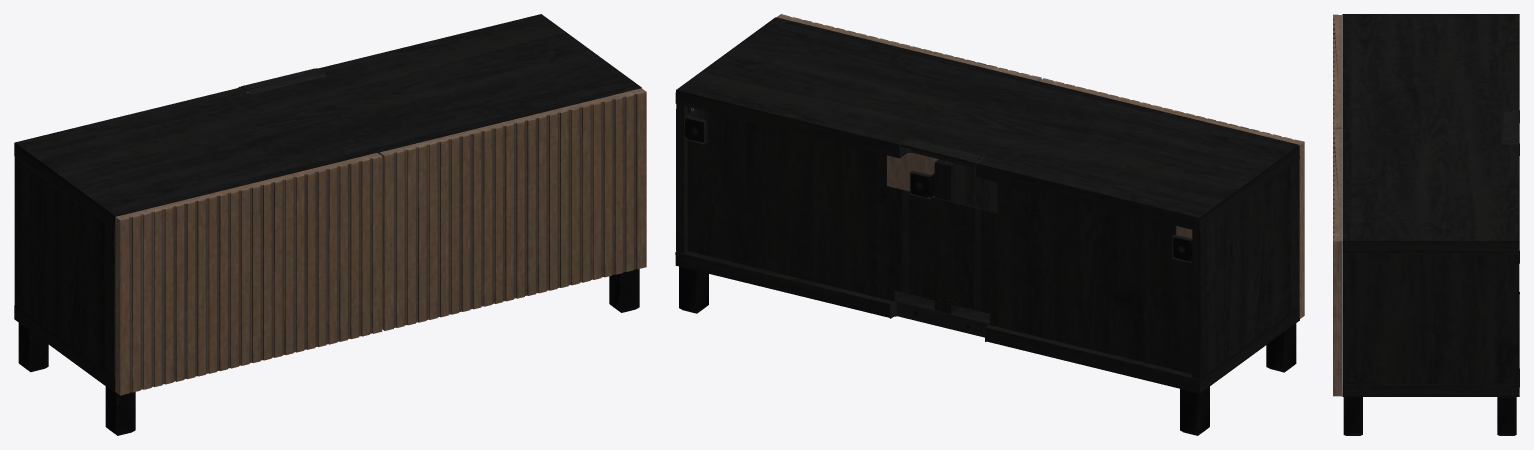
3 views of the same model, side by side, from view 1: azimuth 30°, elevation 25°; view 2: azimuth 150°, elevation 25°; view 3: azimuth 270°, elevation 25° (orthographic). The views are drawn at different scales.
Visible parts, largest first — view 1: Mesh_0, Mesh_1; view 2: Mesh_0, Mesh_1; view 3: Mesh_0, Mesh_1.
Part boxes in pixels (bbox=[...]): Mesh_0: bbox=[14, 14, 646, 395]; Mesh_1: bbox=[18, 269, 639, 435]; Mesh_0: bbox=[675, 14, 1304, 393]; Mesh_1: bbox=[679, 266, 1296, 435]; Mesh_0: bbox=[1333, 14, 1519, 396]; Mesh_1: bbox=[1343, 397, 1516, 435].
Bounding box in the file's own units: 1.2 × 0.4864 × 0.4166.
1 material, 1 textured.
